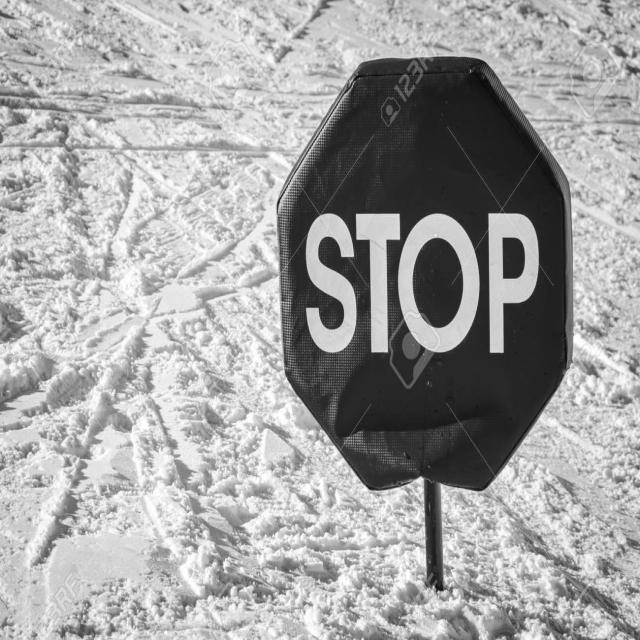Stop-sign: (262, 15, 583, 512)
